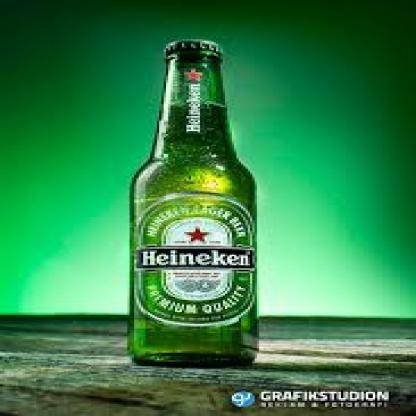trash: (129, 40, 256, 364)
